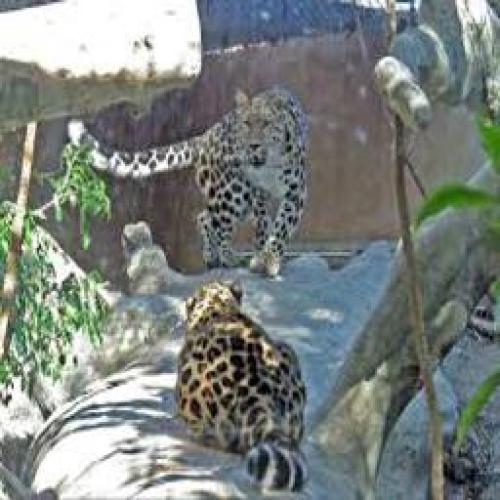amur_leopard-endangered: (66, 76, 306, 271), (177, 277, 319, 494)
